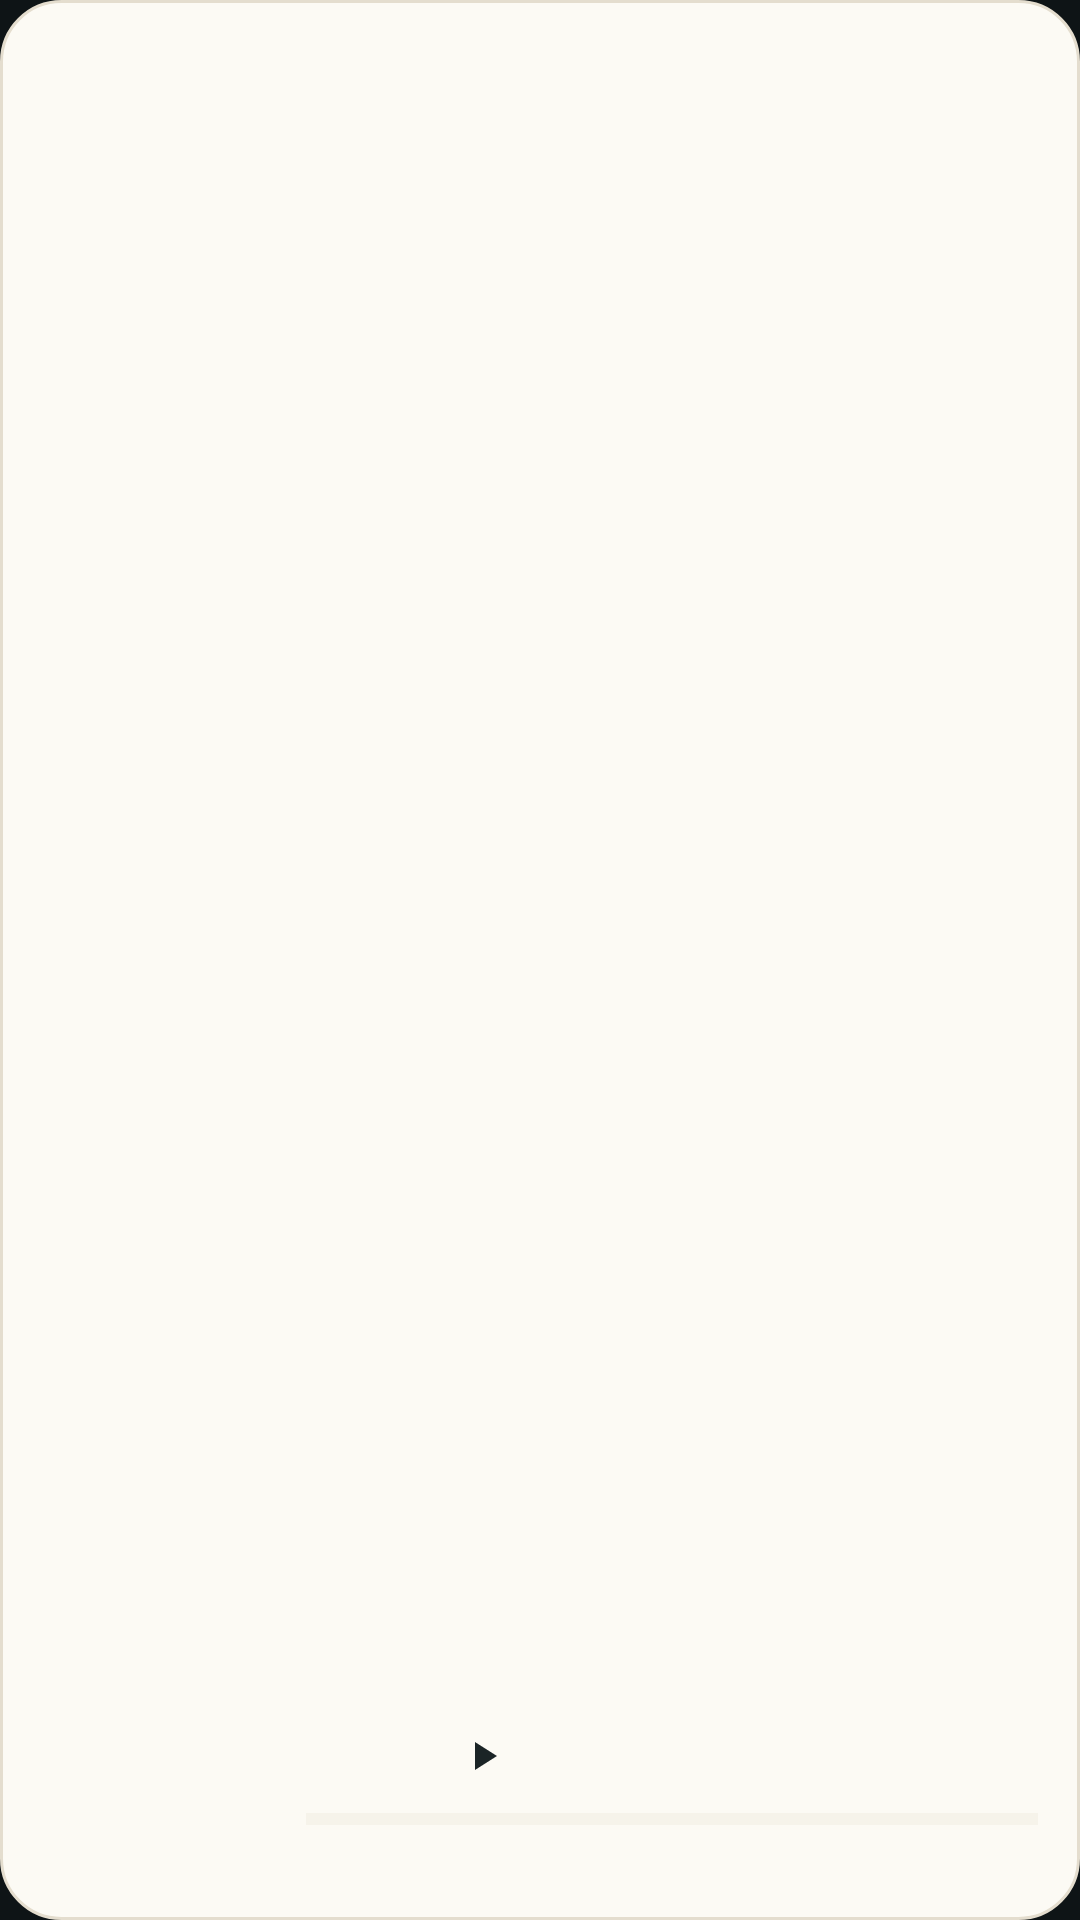

Icon click points for this 1080*1920 phone screenshot, format (x,y):
播放: (486,1756)
